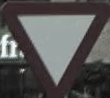Give way: (4, 3, 103, 93)
